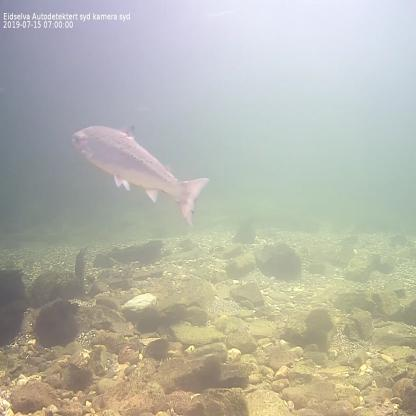salmon: (69, 121, 210, 227)
